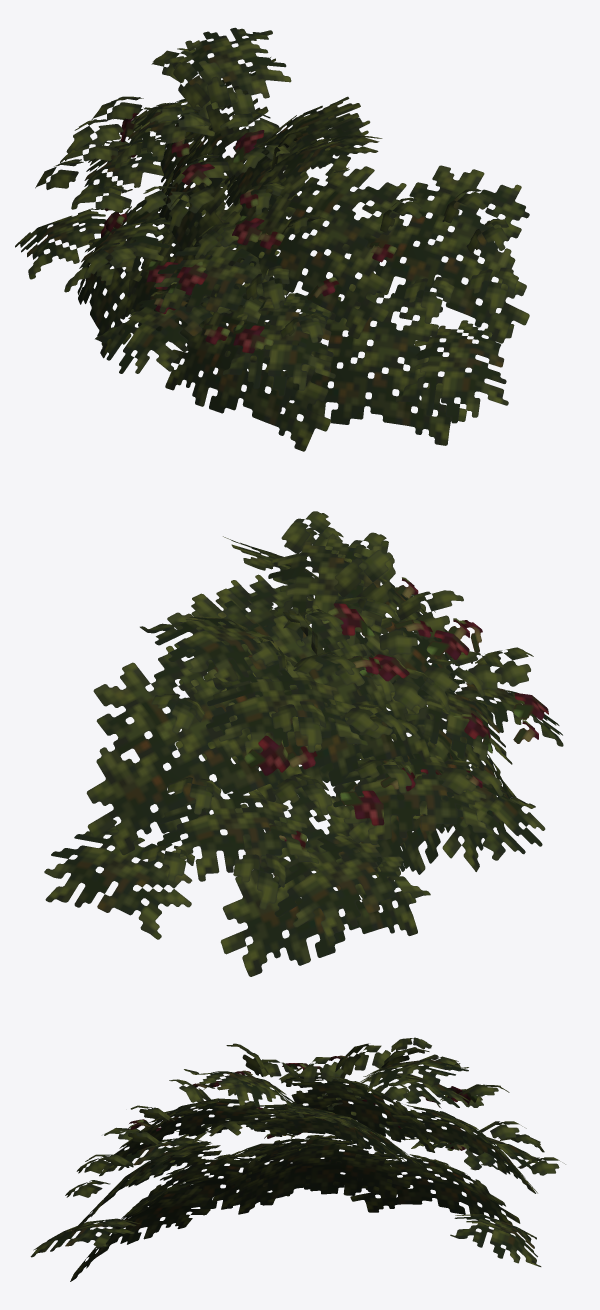
File: EnvFldMD_Grass_M_B_Berry_Red.FBX
3 renders of one model, top to bottom at view 1: azimuth 30°, elevation 25°; view 2: azimuth 150°, elevation 25°; view 3: azimuth 270°, elevation 25°, orthographic. The views are drawn at different scales.
Visible parts, largest first — view 1: EnvFldMD_Grass_M_B_Berry_Red; view 2: EnvFldMD_Grass_M_B_Berry_Red; view 3: EnvFldMD_Grass_M_B_Berry_Red.
Part boxes in pixels (<box>): EnvFldMD_Grass_M_B_Berry_Red: <box>15,27,529,451</box>; EnvFldMD_Grass_M_B_Berry_Red: <box>44,511,563,976</box>; EnvFldMD_Grass_M_B_Berry_Red: <box>30,1037,565,1281</box>.
Bounding box in the file's own units: 348 × 229 × 503.
1 material, 1 textured.
